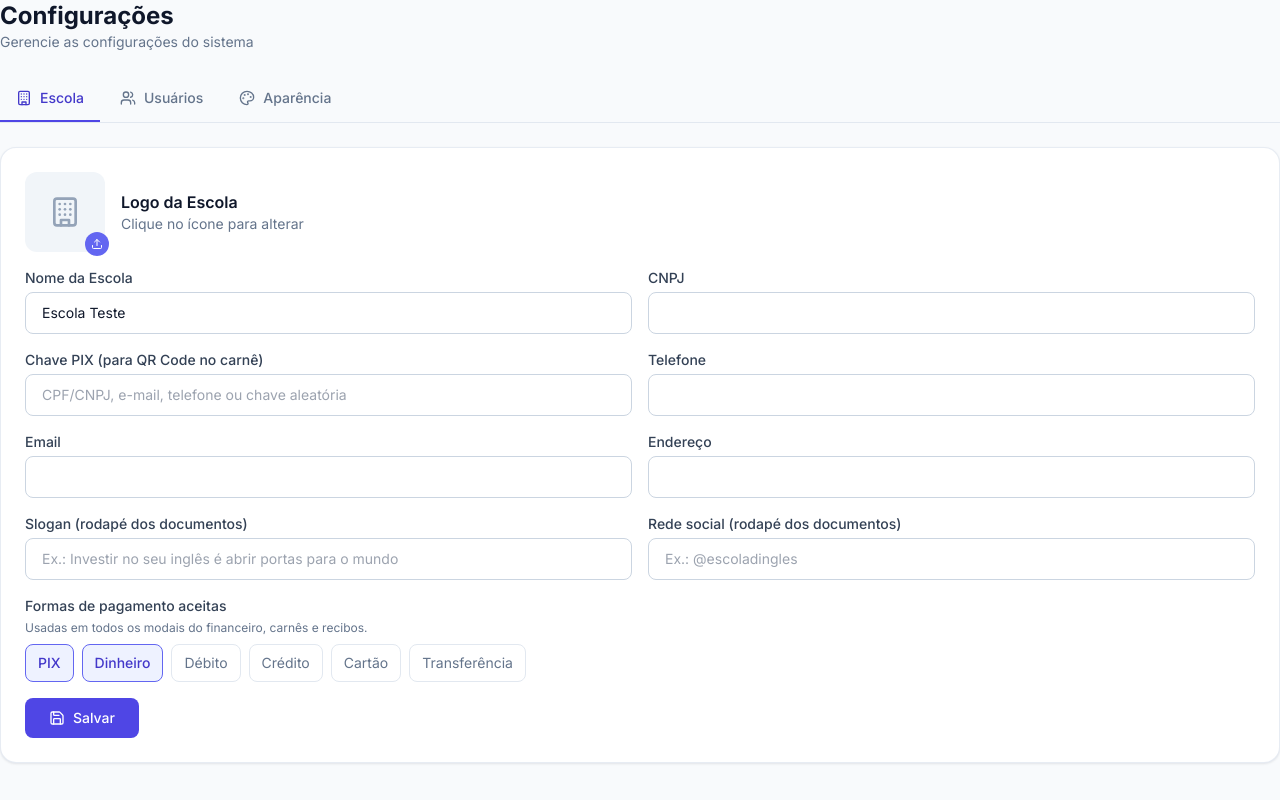
Test case: Settings › abre o ConfirmDialog ao clicar em Excluir em um usuário
What coordinates should you click on to do the following:
click the button "Usuários"
I would click on:
 (162, 99)
Its box is [104,76,219,122].
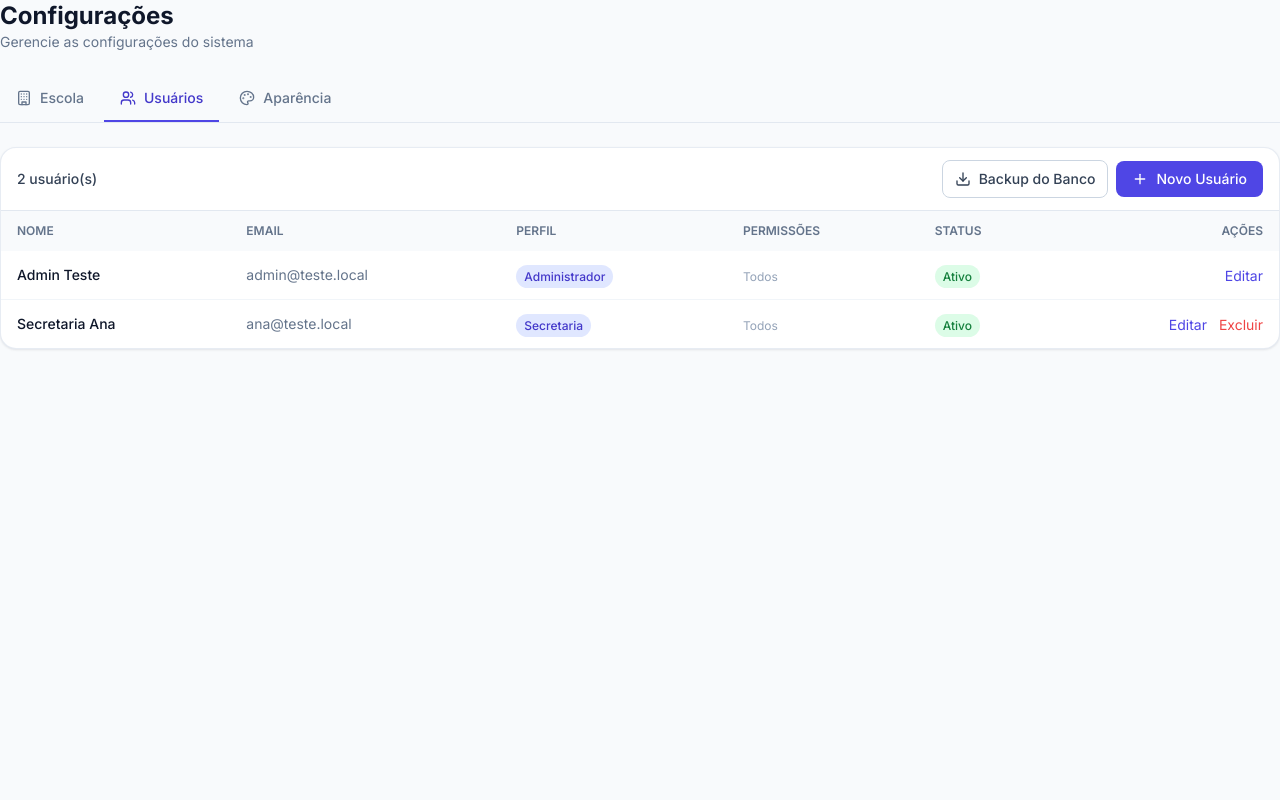
Expected: the text "Secretaria Ana" is shown, [1,300,230,348]
What coordinates should you click on to do the following:
click the button "Excluir"
I would click on:
 (1241, 325)
Its box is [1219,315,1263,335].
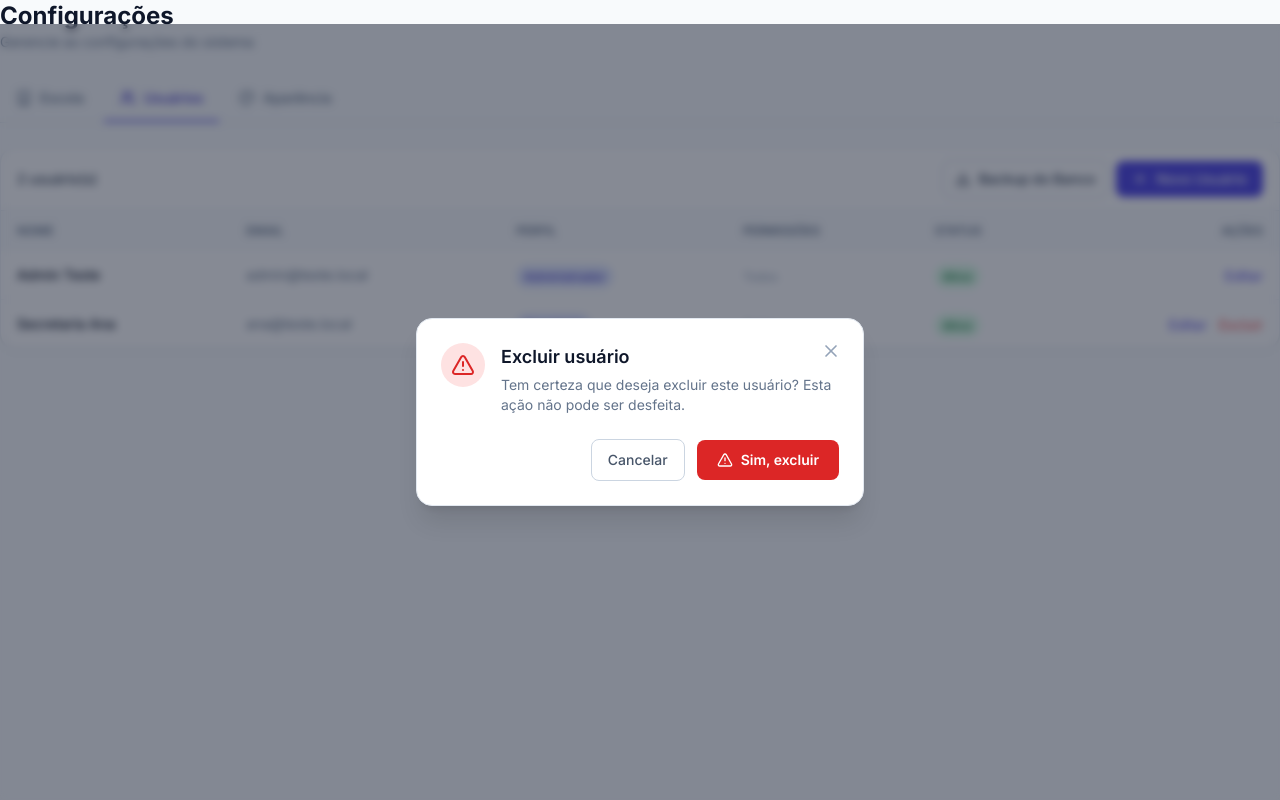
Expected: the heading "Excluir usuário" is shown, [501,346,630,367]
